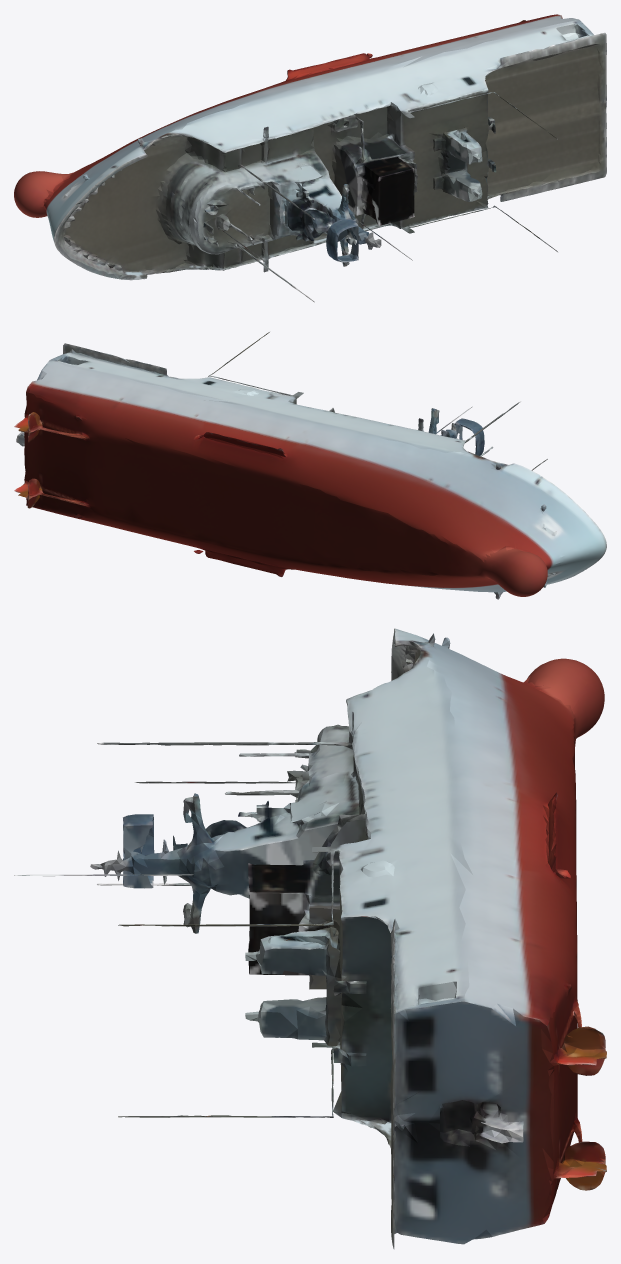
File: Type_056A_Frigate_AI_Rodin.glb
3 renders of one model, top to bottom at view 1: azimuth 30°, elevation 25°; view 2: azimuth 150°, elevation 25°; view 3: azimuth 270°, elevation 25°, orthographic. The views are drawn at different scales.
Parts seen in each view (by area): view 1: Type_056A_Frigate; view 2: Type_056A_Frigate; view 3: Type_056A_Frigate.
Boxes of the visible parts, x1,y1,x2,y2 form: Type_056A_Frigate: (14, 14, 606, 302); Type_056A_Frigate: (14, 331, 606, 599); Type_056A_Frigate: (14, 628, 606, 1249).
Size of the model in its own units: 1.9 by 0.4672 by 1.02.
Materials: 1 (1 with a texture image).
